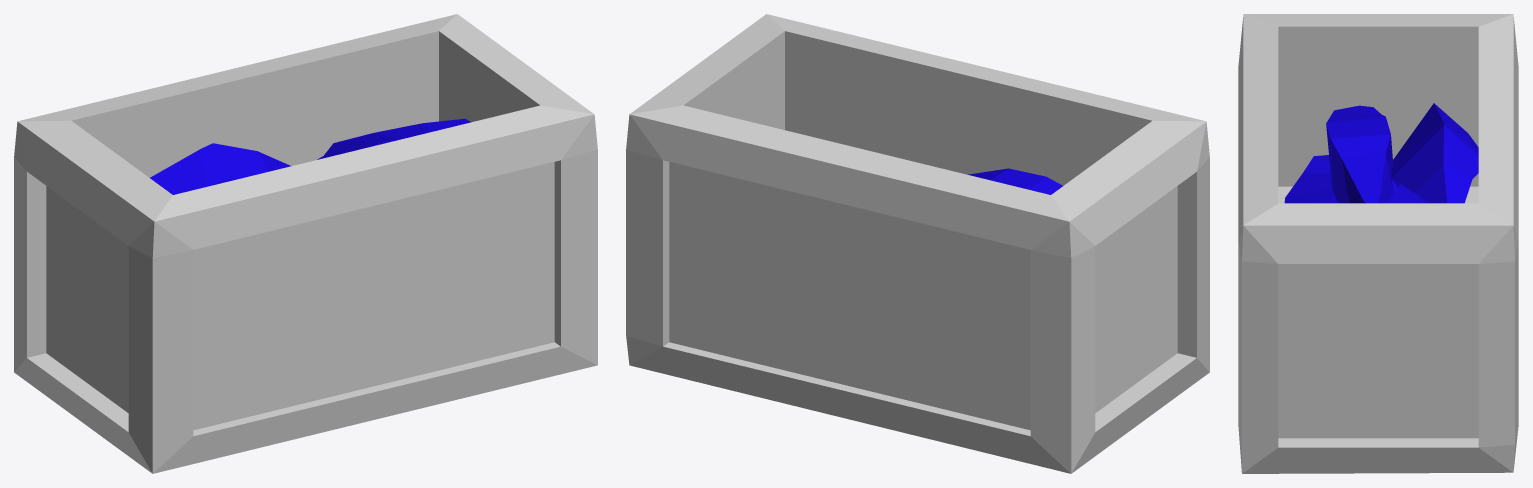
The model's file is caja con cristales 3 Baja.fbx.
3 renders of one model, left to right at view 1: azimuth 30°, elevation 25°; view 2: azimuth 150°, elevation 25°; view 3: azimuth 270°, elevation 25°, orthographic.
Visible parts, largest first — view 1: caja_3_Cristales_Baja.010; view 2: caja_3_Cristales_Baja.010; view 3: caja_3_Cristales_Baja.010.
Part boxes in pixels (x1=…): caja_3_Cristales_Baja.010: x1=14, y1=14, x2=597, y2=473; caja_3_Cristales_Baja.010: x1=626, y1=14, x2=1209, y2=473; caja_3_Cristales_Baja.010: x1=1238, y1=14, x2=1518, y2=473.
Size of the model in its own units: 712 by 381 by 384.
